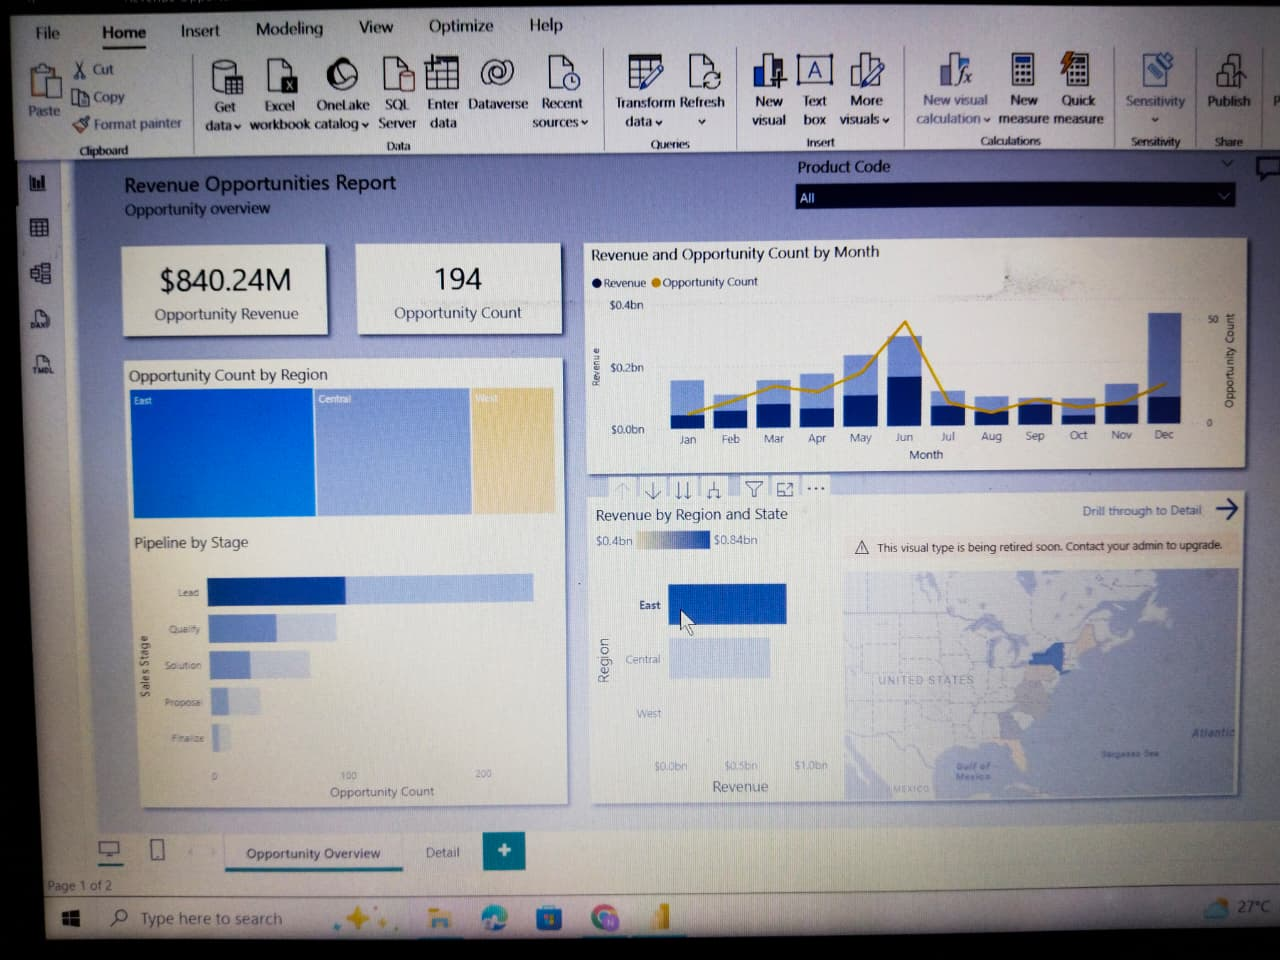

The page's visual inventory and layout, read from the dashboard file:
{"tool":"powerbi","page":{"name":"Opportunity Overview","canvas":[1280,720],"ordinal":0},"visuals":[{"type":"card","title":"Revenue","fields":{"Values":["Fact.Revenue"]},"box":[49.6,92.4,215,91.4],"z":0,"group":"g1"},{"type":"card","title":"Count","fields":{"Values":["Fact.Opportunity Count"]},"box":[291.8,92.4,215,91.4],"z":1000,"group":"g1"},{"type":"basicShape","title":"Shape for mobile","box":[968,471.9,12.5,12.5],"z":1000},{"type":"slicer","title":"Product Slicer","fields":{"Values":["Product.Product Code"]},"box":[742.8,0,486.4,75.1],"z":6000},{"type":"treemap","fields":{"Group":["Account.Region","Account.State"],"Values":["Fact.Opportunity Count"]},"box":[48,216,456,168],"z":7000},{"type":"filledMap","fields":{"Category":["Account.State"]},"box":[800,400,432,288],"z":8000},{"type":"lineStackedColumnComboChart","fields":{"Category":["Fact.Month"],"Y":["Fact.Revenue"],"Y2":["Fact.Opportunity Count"]},"box":[535,92.4,694.5,238.3],"z":9000},{"type":"barChart","title":"Pipeline by Stage","fields":{"Category":["SalesStage.Sales Stage"],"Y":["Fact.Opportunity Count"]},"box":[48,392,456,296],"z":10000},{"type":"textbox","title":"Report Title","box":[47.7,8.3,600.9,63.2],"z":11000},{"type":"barChart","title":"Revenue by Region and State","fields":{"Category":["Account.Region","Account.State"],"Y":["Fact.Revenue"]},"box":[536,368,256,320],"z":12000},{"type":"actionButton","title":"Q&A","box":[1229.4,0,50.6,39.9],"z":13000},{"type":"actionButton","box":[928,360,304,40],"z":14000},{"type":"group","id":"g1","title":"Opportunity Cards","box":[49.6,92.4,457.1,91.4],"z":15000}]}

Visuals, with their boxes on the page's 1280x720 design canvas (x1, y1, x2, y2). These are canvas units, not pixel positions in the 1280x960 screenshot, which may show the page scaled, cropped or inside an application window:
"Revenue" card: pyautogui.locateOnScreen(50, 92, 265, 184)
"Count" card: pyautogui.locateOnScreen(292, 92, 507, 184)
"Shape for mobile" basicShape: pyautogui.locateOnScreen(968, 472, 980, 484)
"Product Slicer" slicer: pyautogui.locateOnScreen(743, 0, 1229, 75)
treemap - Account.Region x Account.State: pyautogui.locateOnScreen(48, 216, 504, 384)
filledMap - Account.State: pyautogui.locateOnScreen(800, 400, 1232, 688)
lineStackedColumnComboChart - Fact.Month x Fact.Revenue: pyautogui.locateOnScreen(535, 92, 1230, 331)
"Pipeline by Stage" barChart: pyautogui.locateOnScreen(48, 392, 504, 688)
"Report Title" textbox: pyautogui.locateOnScreen(48, 8, 649, 72)
"Revenue by Region and State" barChart: pyautogui.locateOnScreen(536, 368, 792, 688)
"Q&A" actionButton: pyautogui.locateOnScreen(1229, 0, 1280, 40)
actionButton: pyautogui.locateOnScreen(928, 360, 1232, 400)
"Opportunity Cards" group: pyautogui.locateOnScreen(50, 92, 507, 184)
